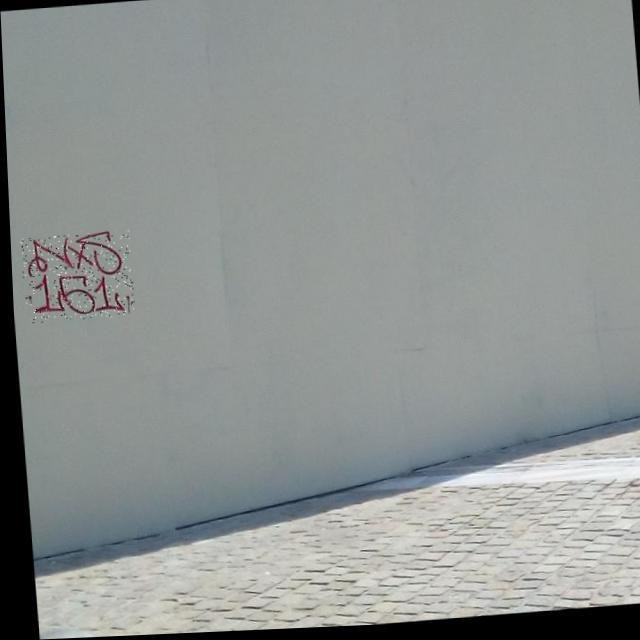-: (18, 230, 132, 324)
